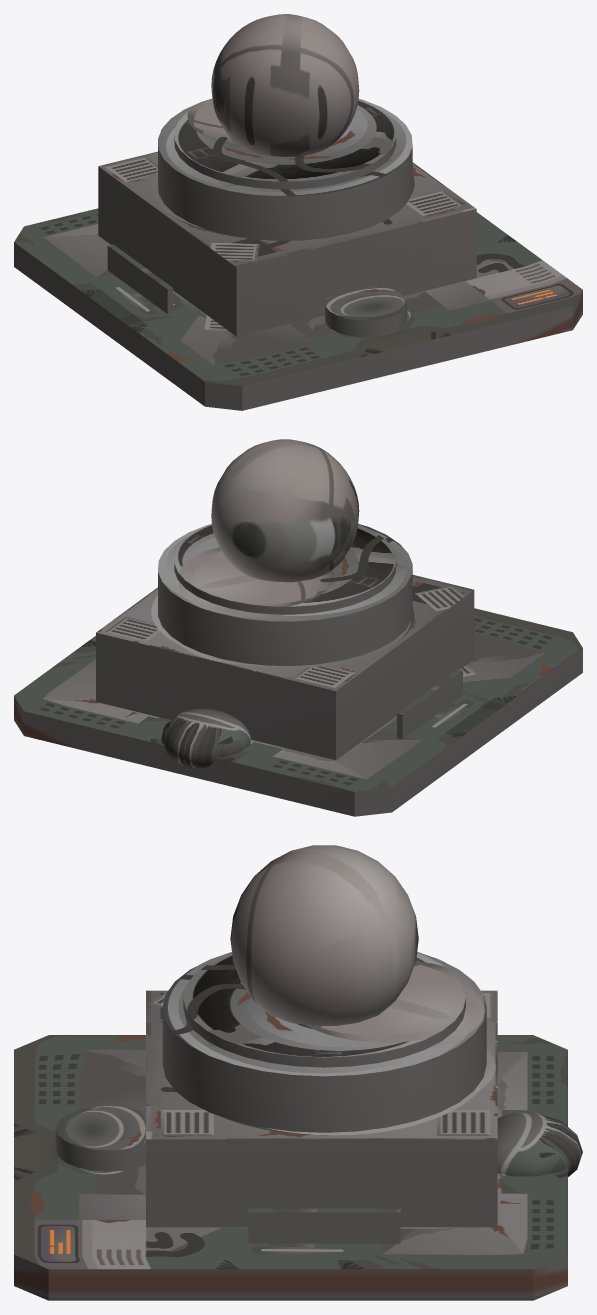
The model's file is Building_AncientGravReactor.obj.
3 views of the same model, one above another, from view 1: azimuth 30°, elevation 25°; view 2: azimuth 150°, elevation 25°; view 3: azimuth 270°, elevation 25° (orthographic). The views are drawn at different scales.
Parts seen in each view (by area): view 1: Body; view 2: Body; view 3: Body.
Boxes of the visible parts, x1,y1,x2,y2 form: Body: [14, 14, 582, 410]; Body: [14, 439, 582, 816]; Body: [14, 845, 582, 1300].
Size of the model in its own units: 4 by 2.63 by 4.11.
Materials: 1 (1 with a texture image).
